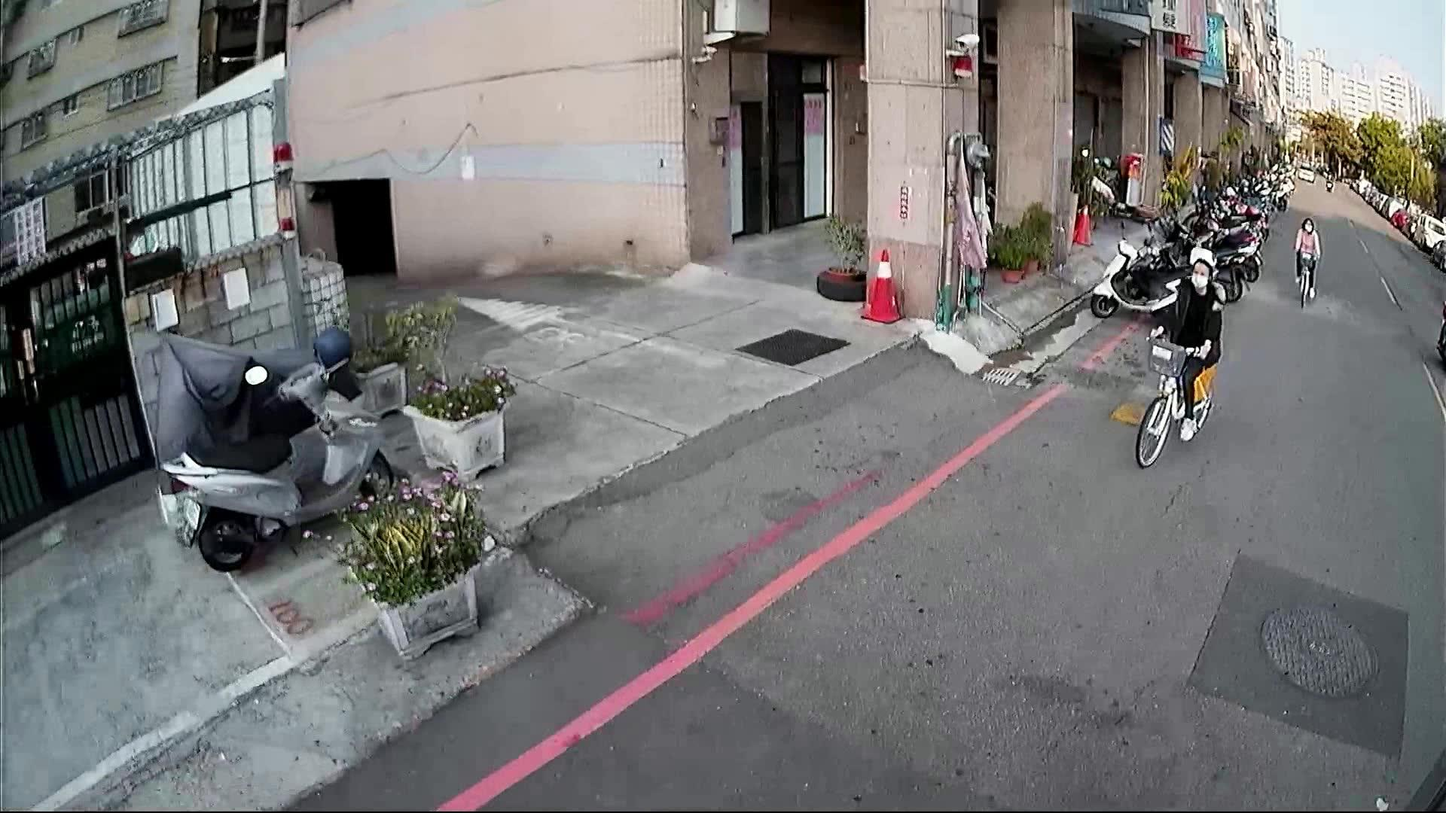person: (1142, 254, 1227, 442), (1289, 215, 1320, 300)
